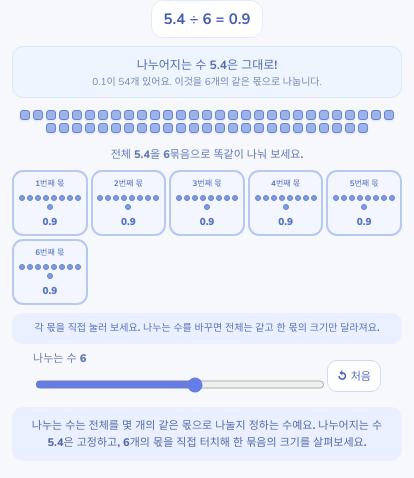
Test case: 소수 나눗셈의 용어와 직접 조작 › 초기 문제가 5.4 ÷ 6일 때 제수를 바꾸더라도 피제수 5.4는 바뀌지 않는다
This screenshot has width=414, height=478.
Expected: the text "5.4 ÷ 6 = 0.9" is shown, [164,9,250,29]
Step 1. Set the slider labelled "나누는 수" to "9" → x=287, y=385, box [35,372,325,397]
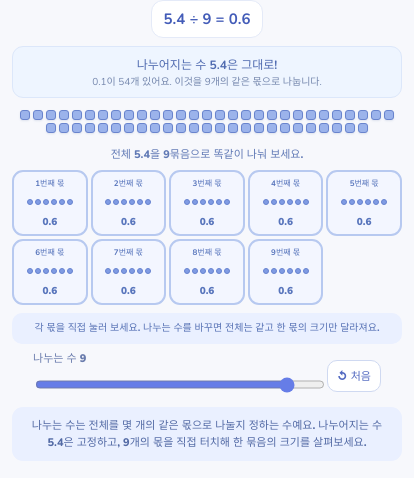
Expected: the text "5.4 ÷ 9 = 0.6" is shown, [164,9,250,29]
